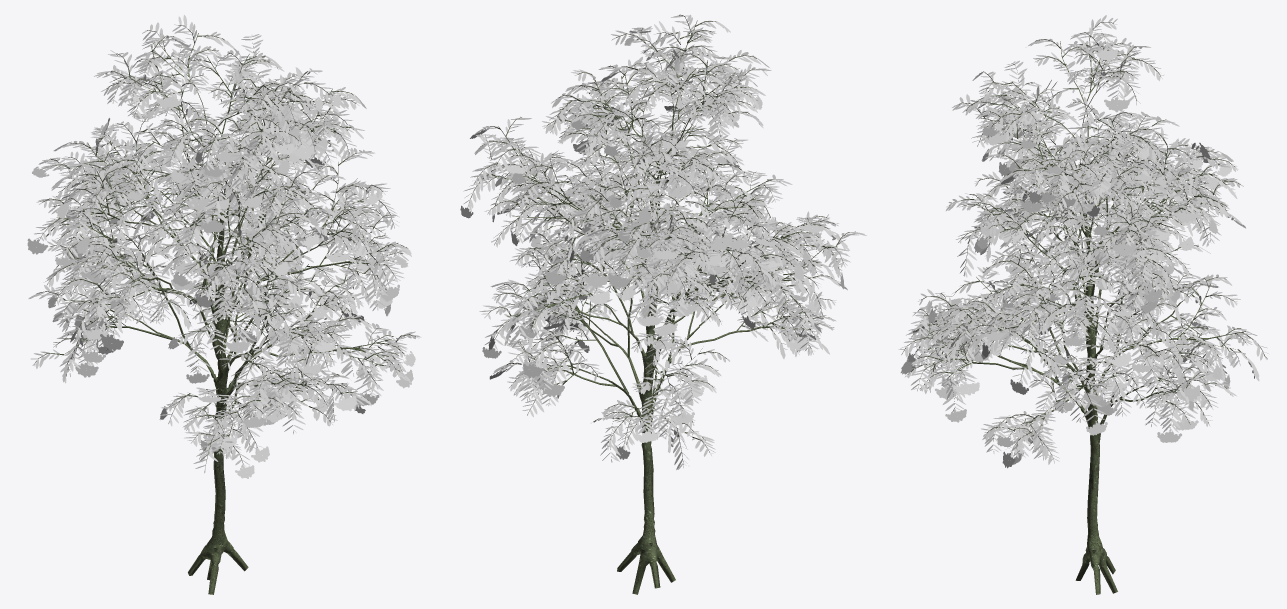
Rendered from Sorbus aucuparia002_LOW.FBX.
3 views of the same model, side by side, from view 1: azimuth 30°, elevation 25°; view 2: azimuth 150°, elevation 25°; view 3: azimuth 270°, elevation 25° (orthographic). The views are drawn at different scales.
Visible parts, largest first — view 1: Sorbus aucuparia002_LOW; view 2: Sorbus aucuparia002_LOW; view 3: Sorbus aucuparia002_LOW.
Boxes of the visible parts, x1,y1,x2,y2 form: Sorbus aucuparia002_LOW: (27, 15, 421, 594); Sorbus aucuparia002_LOW: (460, 14, 866, 594); Sorbus aucuparia002_LOW: (898, 15, 1268, 594).
Size of the model in its own units: 2190 by 3341 by 2122.
